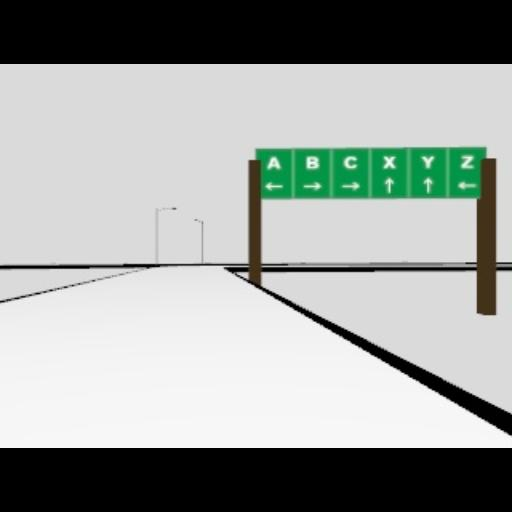A: (266, 155, 280, 169)
B: (304, 156, 318, 168)
C: (343, 156, 357, 168)
Left: (264, 181, 284, 191), (456, 181, 476, 189)
Right: (302, 181, 322, 191), (340, 181, 360, 191)
Straight: (422, 176, 434, 194), (384, 176, 394, 194)
X: (382, 156, 396, 168)
Y: (420, 156, 434, 168)
Z: (459, 154, 473, 168)
